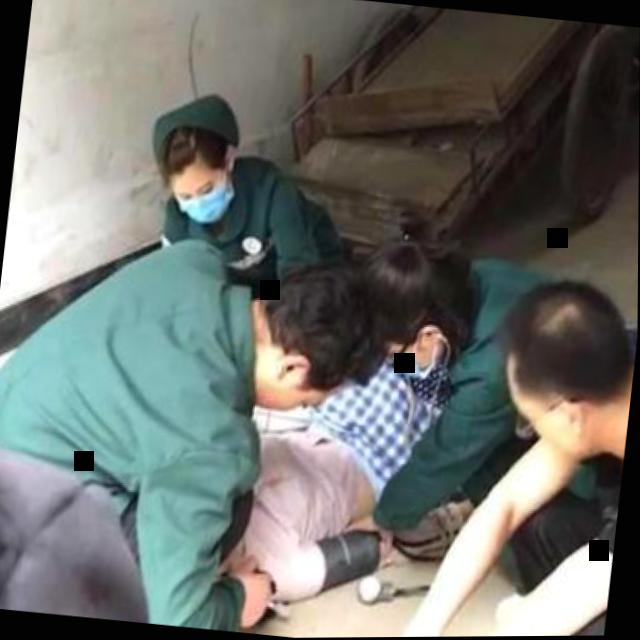Fall-Detected: (187, 325, 464, 639)
